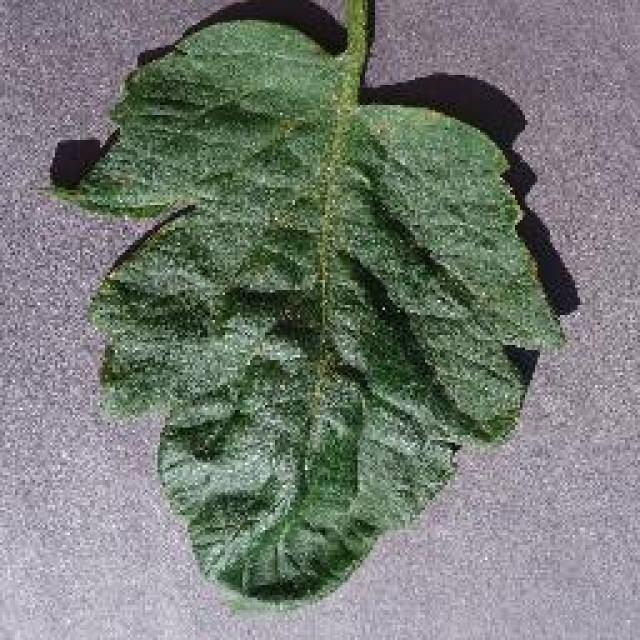Tomato___Target_Spot: (52, 0, 560, 610)
